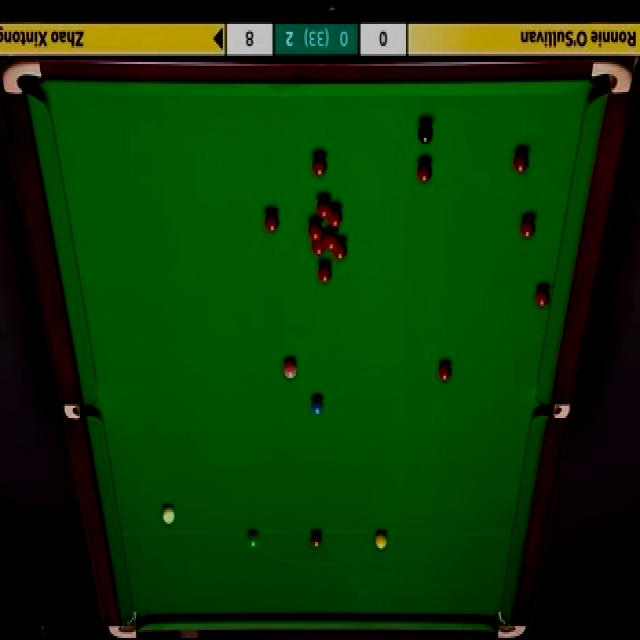black-ball: (417, 117, 433, 144)
blue-ball: (310, 395, 324, 418)
brown-ball: (310, 530, 322, 552)
green-ball: (247, 529, 260, 548)
pink-ball: (283, 359, 297, 380)
red-ball: (512, 148, 530, 176), (262, 208, 280, 235), (535, 282, 552, 308), (520, 215, 536, 242), (312, 153, 327, 179), (416, 160, 432, 184), (328, 204, 343, 229), (318, 260, 332, 284), (334, 238, 348, 262), (317, 195, 330, 218), (438, 362, 452, 383), (309, 219, 322, 240), (312, 235, 325, 255), (325, 232, 338, 251)
white-ball: (161, 503, 177, 529)
yellow-ball: (375, 529, 388, 550)
